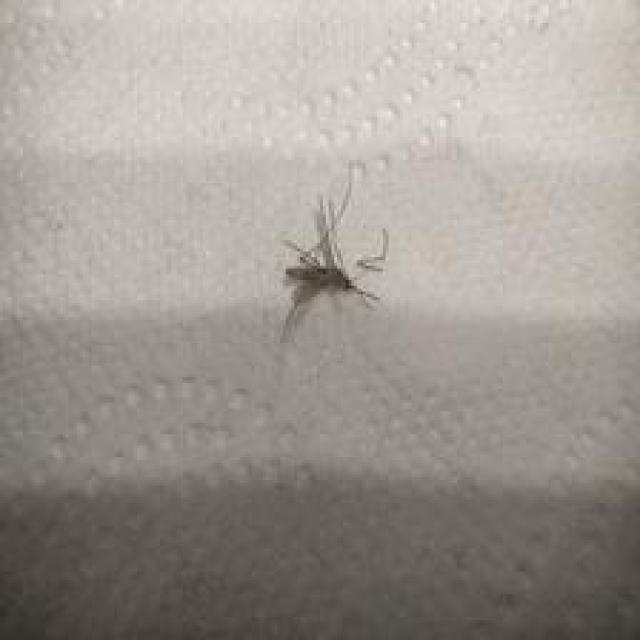Culex: (277, 160, 389, 346)
